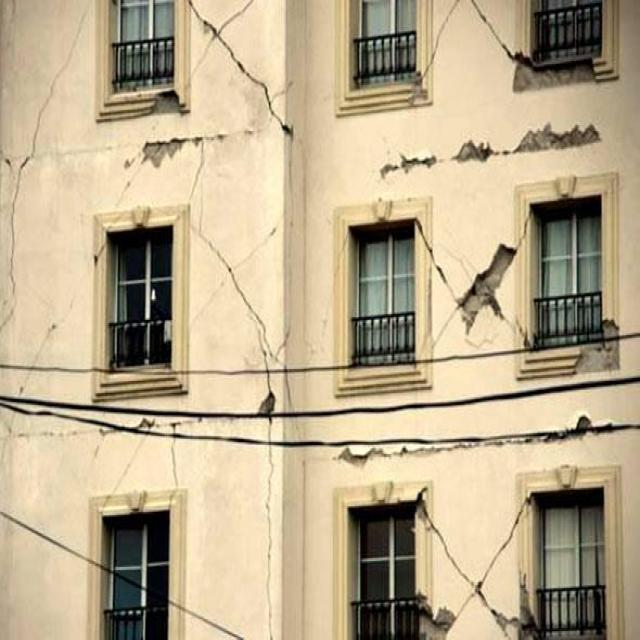crack: (193, 2, 302, 141), (335, 418, 590, 473), (453, 240, 517, 342), (510, 123, 604, 155), (497, 570, 540, 639), (138, 137, 222, 167), (417, 592, 453, 638), (375, 153, 441, 176), (450, 136, 496, 165), (257, 392, 278, 415)
